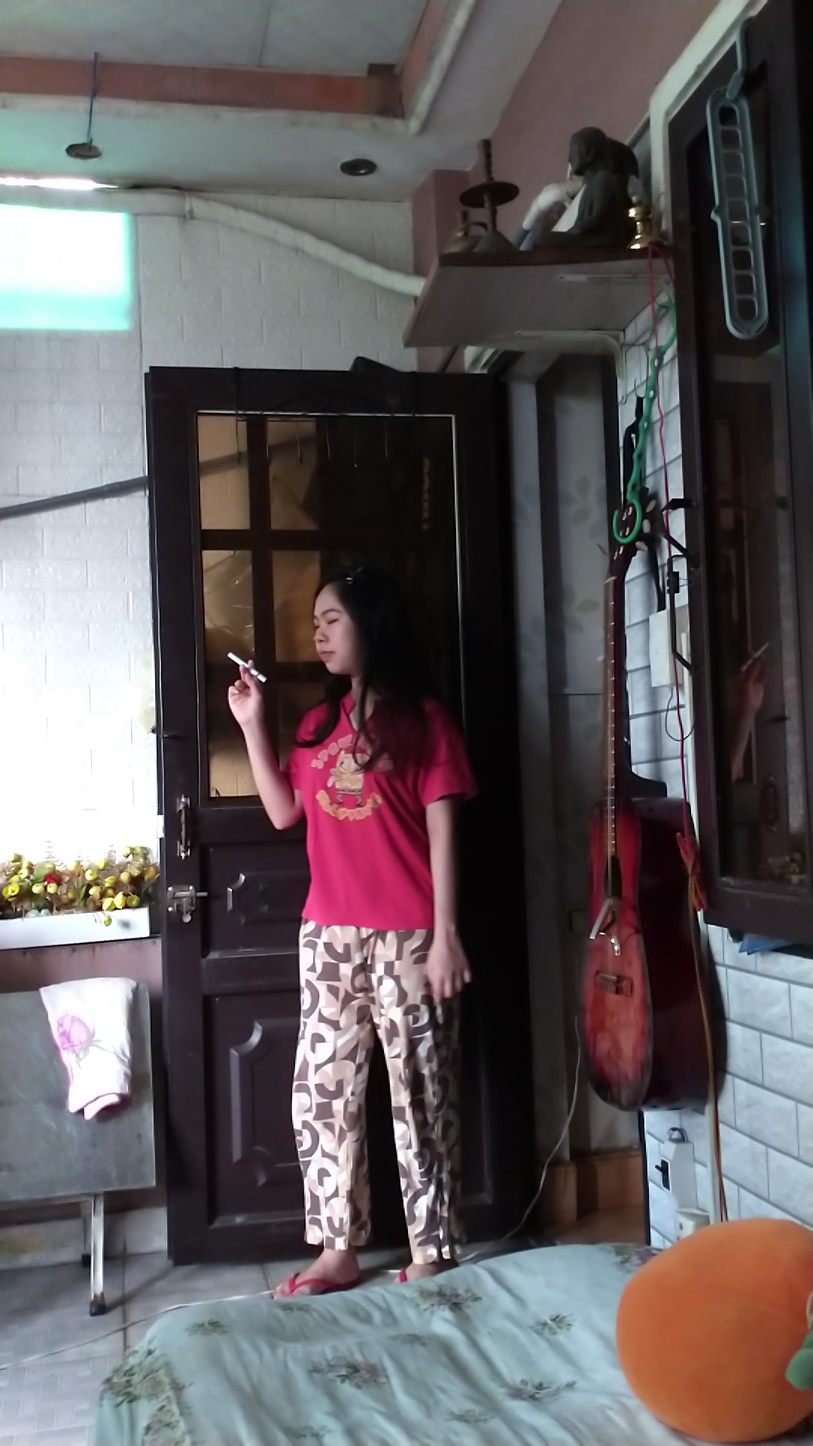cigarette: (224, 647, 248, 670)
person: (226, 539, 480, 1295)
